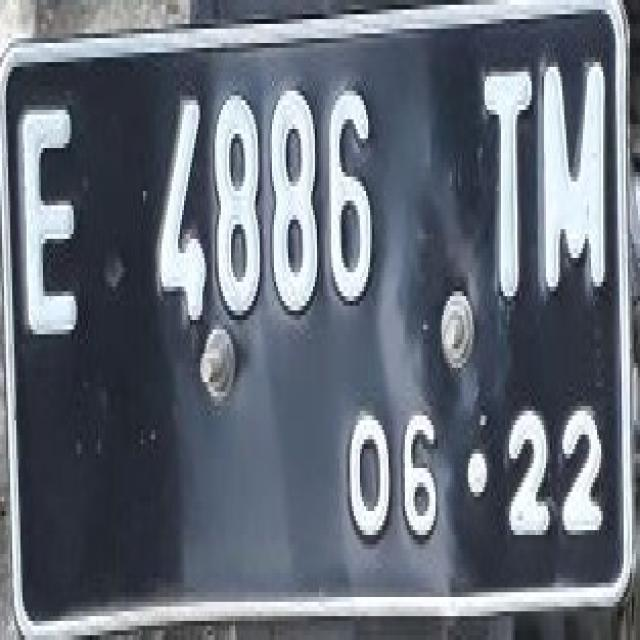plate: (0, 0, 632, 611)
